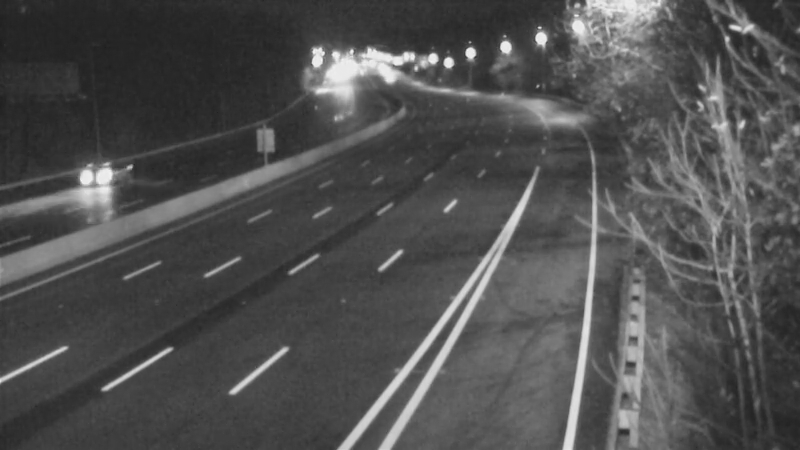vehicle: (59, 134, 139, 214), (362, 52, 412, 102)
